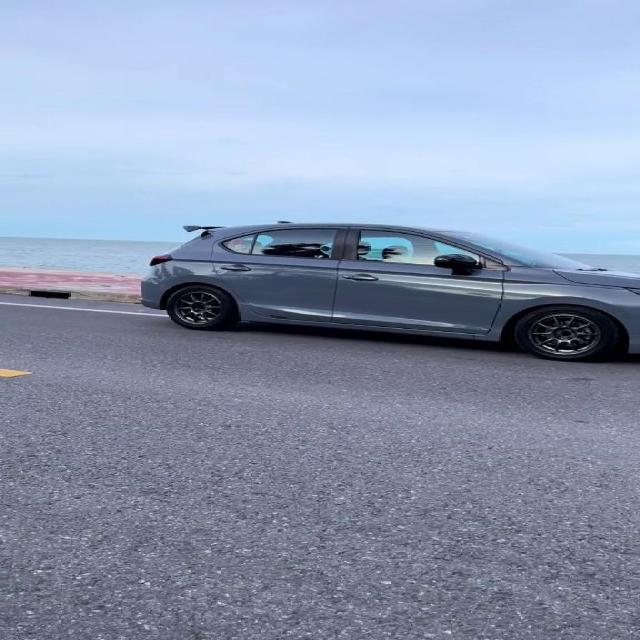Hatchback: (141, 221, 639, 361)
